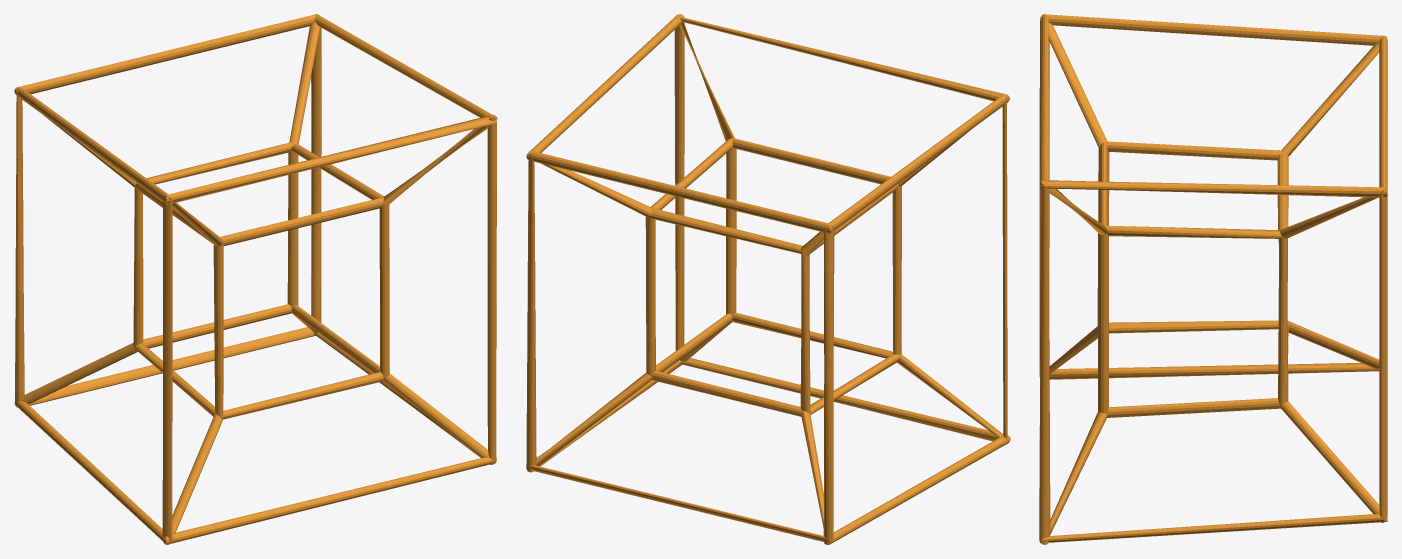
Rendered from SAN_Trophy.fbx.
3 views of the same model, side by side, from view 1: azimuth 30°, elevation 25°; view 2: azimuth 150°, elevation 25°; view 3: azimuth 270°, elevation 25° (orthographic). The views are drawn at different scales.
Visible parts, largest first — view 1: Cube.001; view 2: Cube.001; view 3: Cube.001.
Part boxes in pixels (x1,y1,x2,y2): Cube.001: (14,14,497,544); Cube.001: (526,14,1010,544); Cube.001: (1039,14,1387,544).
Size of the model in its own units: 431 by 432 by 373.
